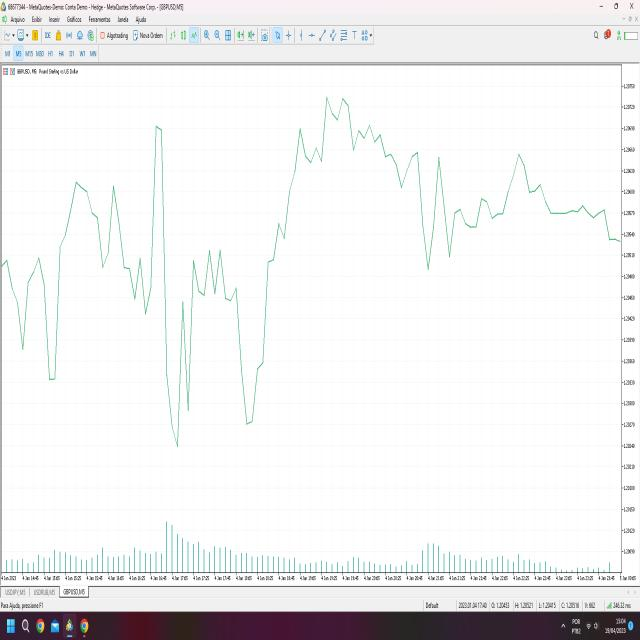fundo_duplo: (158, 239, 280, 466)
